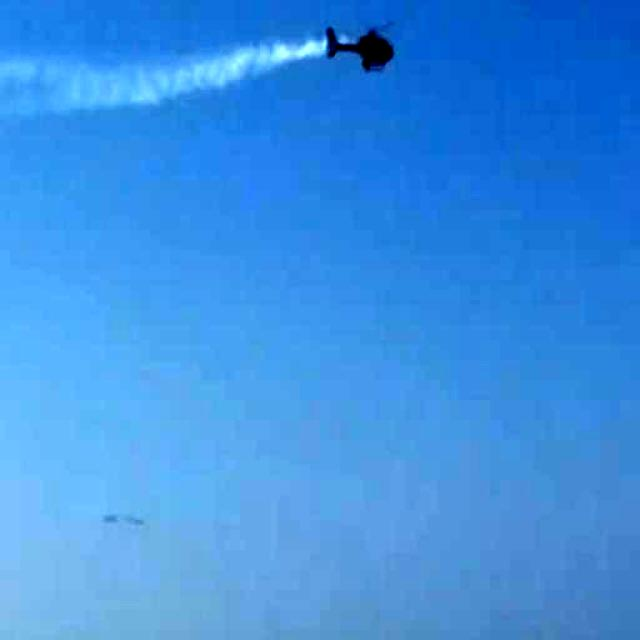drone: (324, 21, 398, 81)
